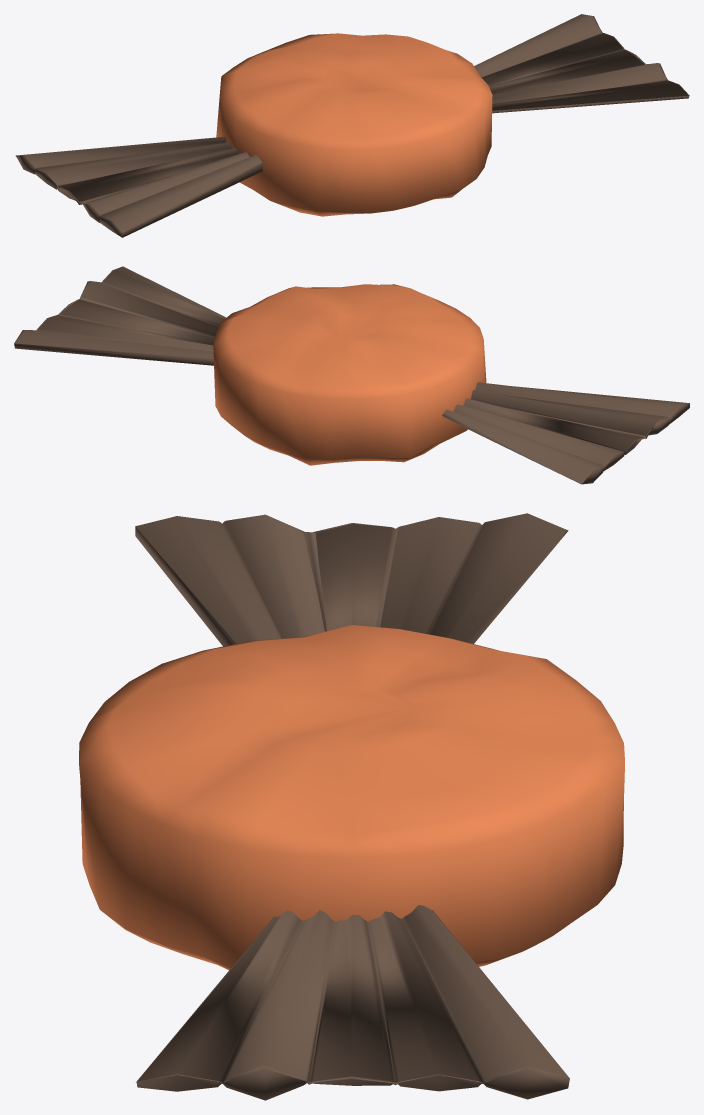
The model's file is candyforGame.fbx.
3 renders of one model, top to bottom at view 1: azimuth 30°, elevation 25°; view 2: azimuth 150°, elevation 25°; view 3: azimuth 270°, elevation 25°, orthographic. The views are drawn at different scales.
Visible parts, largest first — view 1: Circle.001; view 2: Circle.001; view 3: Circle.001.
Boxes of the visible parts, <box> form: Circle.001: <box>15,14,689,237</box>; Circle.001: <box>14,266,689,484</box>; Circle.001: <box>79,513,624,1100</box>.
Bounding box in the file's own units: 609 × 106 × 252.
